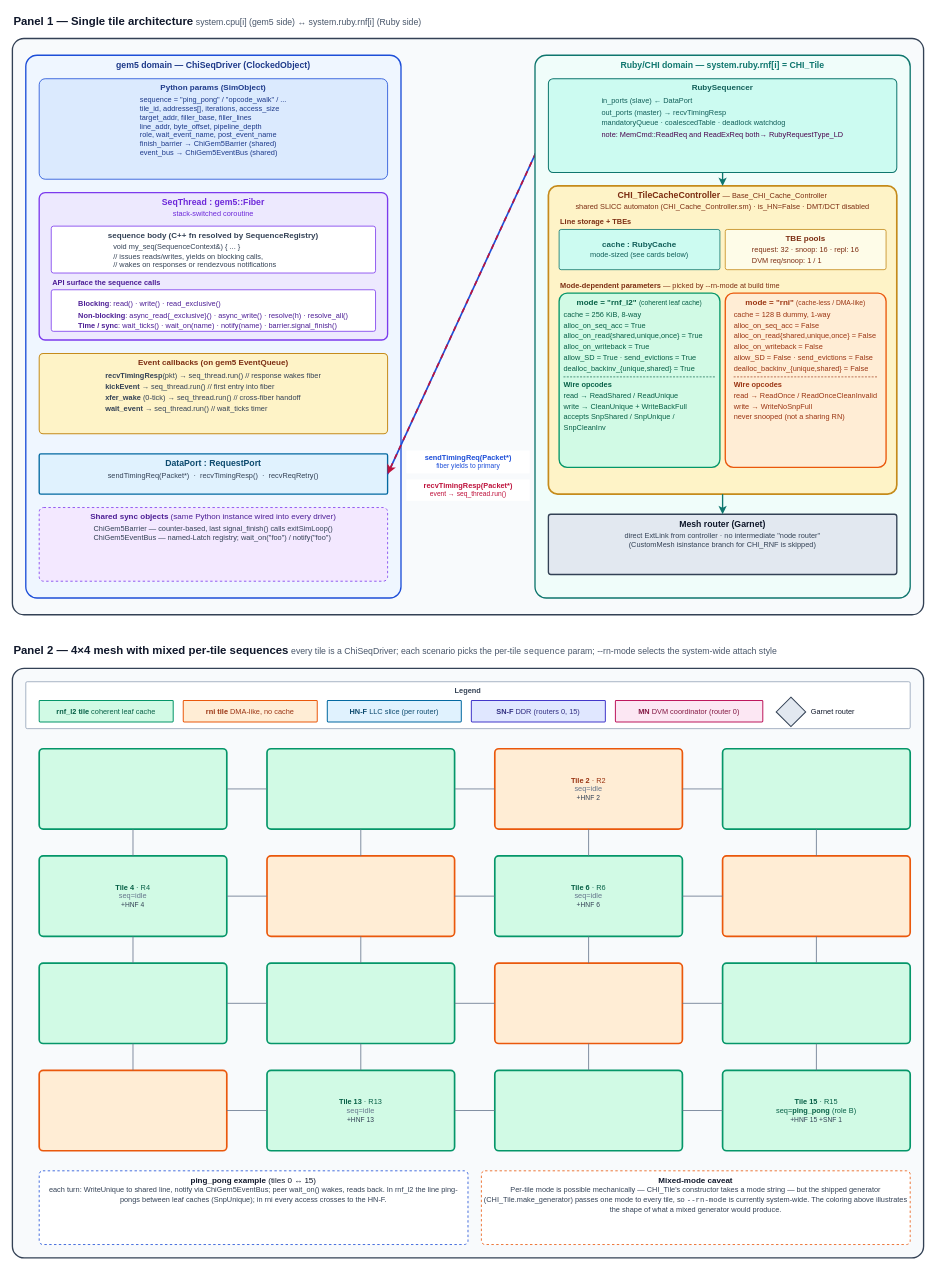
Some shapes in this 935 by 1270 pixel diagram are drawn without their labels. The shapes that lost their labels are listed below. From the top down, each one's centre as x and y in pixels, then its label:
At (x=790, y=711): "R Garnet router".
At (x=132, y=789): "Tile 0 · R0 seq= ping_pong (role A) +HNF 0 +SNF 0 +MN".
At (x=360, y=789): "Tile 1 · R1 seq=idle +HNF 1".
At (x=816, y=789): "Tile 3 · R3 seq= opcode_walk +HNF 3".
At (x=360, y=896): "Tile 5 · R5 seq= smoke_opcode_mix +HNF 5".
At (x=816, y=896): "Tile 7 · R7 seq= memcpy +HNF 7".
At (x=132, y=1003): "Tile 8 · R8 seq= read_ex_walk (role B) +HNF 8".
At (x=360, y=1003): "Tile 9 · R9 seq=idle +HNF 9".
At (x=588, y=1003): "Tile 10 · R10 seq=idle +HNF 10".
At (x=816, y=1003): "Tile 11 · R11 seq=idle +HNF 11".
At (x=132, y=1110): "Tile 12 · R12 seq= smoke_read +HNF 12".
At (x=588, y=1110): "Tile 14 · R14 seq= read_ex_walk (role A) +HNF 14".
